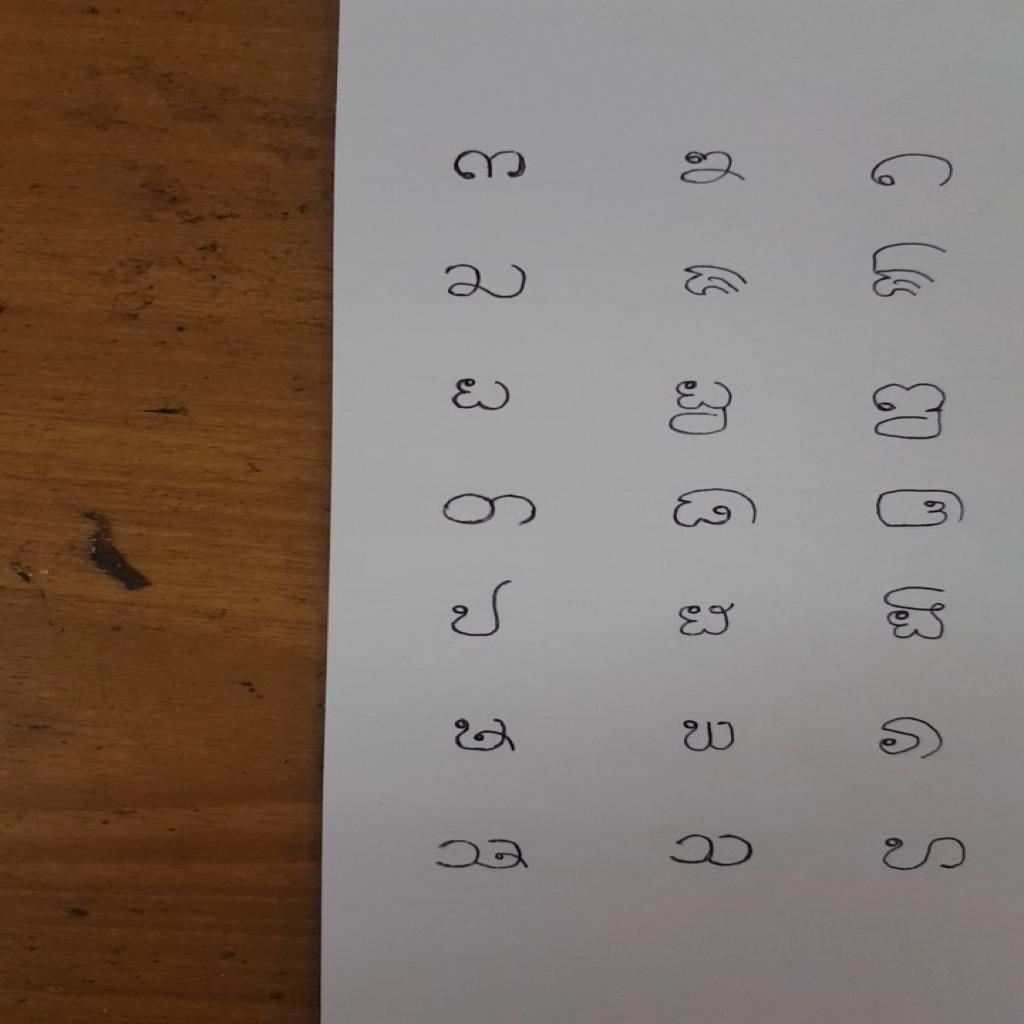LN001: (445, 147, 534, 187)
LN002: (674, 147, 754, 190)
LN003: (863, 149, 967, 194)
LN007: (437, 260, 539, 305)
LN008: (675, 261, 757, 302)
LN009: (865, 238, 959, 304)
LN013: (444, 373, 521, 417)
LN014: (663, 376, 744, 441)
LN015: (863, 379, 959, 446)
LN019: (436, 489, 550, 534)
LN020: (667, 485, 766, 533)
LN021: (870, 486, 973, 533)
LN025: (443, 575, 522, 644)
LN026: (671, 599, 744, 641)
LN027: (875, 584, 956, 645)
LN031: (442, 712, 527, 760)
LN032: (675, 715, 746, 758)
LN033: (871, 713, 953, 764)
LN037: (426, 836, 539, 876)
LN038: (662, 829, 765, 873)
LN039: (876, 832, 977, 877)
